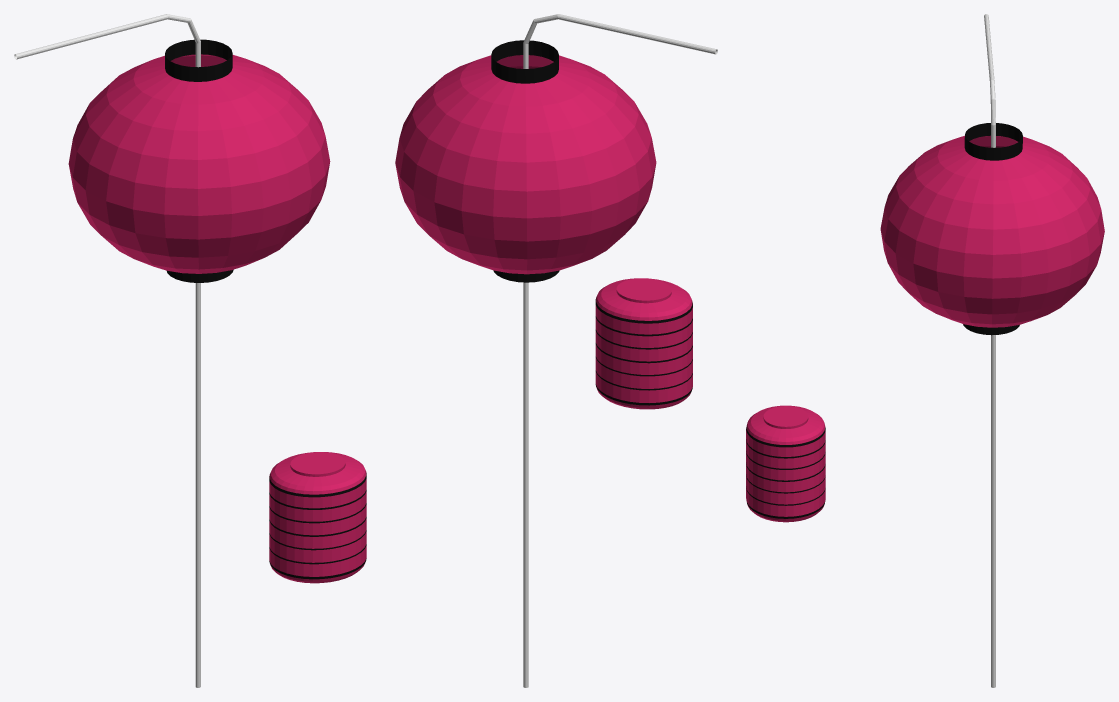
Rendered from Lanterns.fbx.
3 views of the same model, side by side, from view 1: azimuth 30°, elevation 25°; view 2: azimuth 150°, elevation 25°; view 3: azimuth 270°, elevation 25° (orthographic). The views are drawn at different scales.
Parts seen in each view (by area): view 1: Sphere.002, Cylinder.023, Plane.041; view 2: Sphere.002, Cylinder.023, Plane.041; view 3: Sphere.002, Cylinder.023, Plane.041.
Part boxes in pixels (bbox=[...]): Sphere.002: bbox=[68, 39, 330, 282]; Cylinder.023: bbox=[269, 452, 366, 583]; Plane.041: bbox=[14, 14, 200, 687]; Sphere.002: bbox=[395, 40, 656, 282]; Cylinder.023: bbox=[595, 278, 692, 409]; Plane.041: bbox=[523, 14, 717, 687]; Sphere.002: bbox=[880, 123, 1104, 335]; Cylinder.023: bbox=[746, 405, 825, 522]; Plane.041: bbox=[984, 14, 995, 687].
Bounding box in the file's own units: 128 × 276 × 151.
